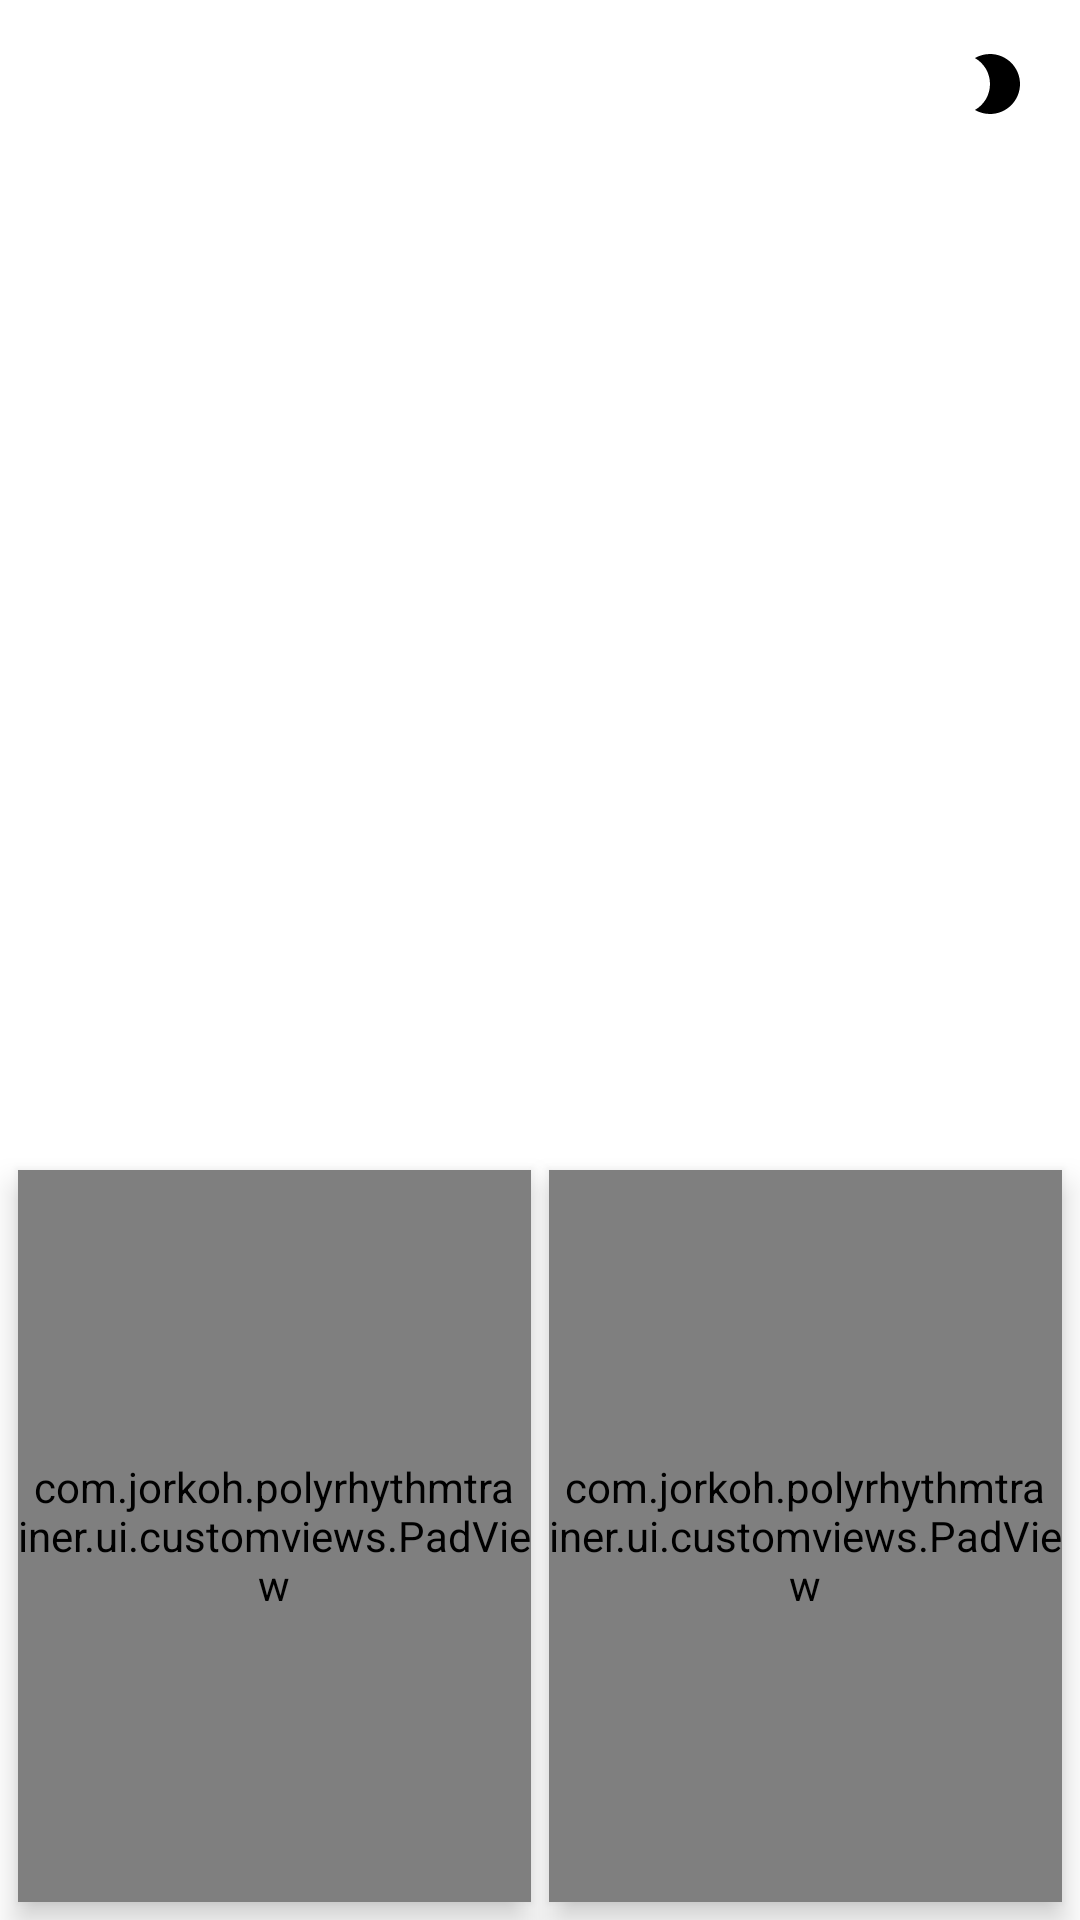

Named icons in this screenshot (1080 x 1920) and their bounding boxes, (x1, y1, x2, y2):
theme: (975, 54, 1020, 114)
